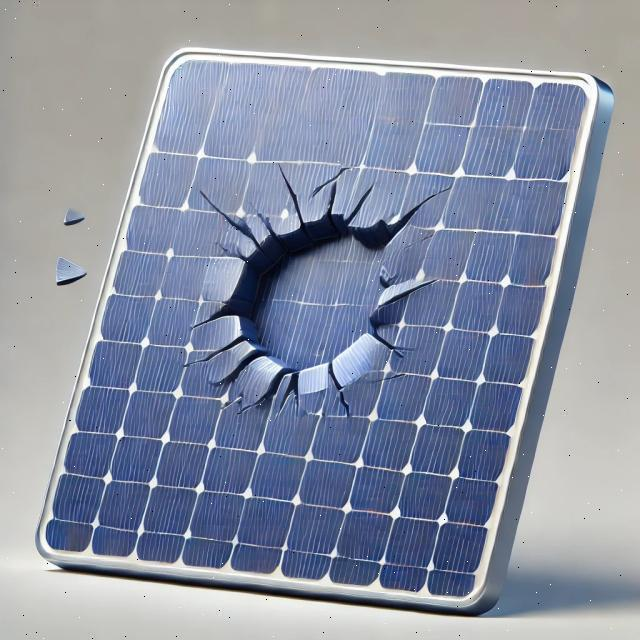Anomaly Solar Panel: (41, 52, 594, 603)
Structural Damage: (211, 193, 427, 387), (375, 174, 454, 246), (195, 179, 265, 249), (235, 367, 289, 422), (181, 333, 245, 372), (375, 273, 439, 308), (275, 158, 305, 223), (323, 362, 354, 419), (306, 161, 350, 199), (364, 327, 414, 360), (187, 298, 237, 327), (344, 179, 374, 224), (273, 369, 300, 417), (320, 176, 338, 217), (254, 207, 276, 238), (401, 231, 436, 250), (372, 368, 408, 385)
